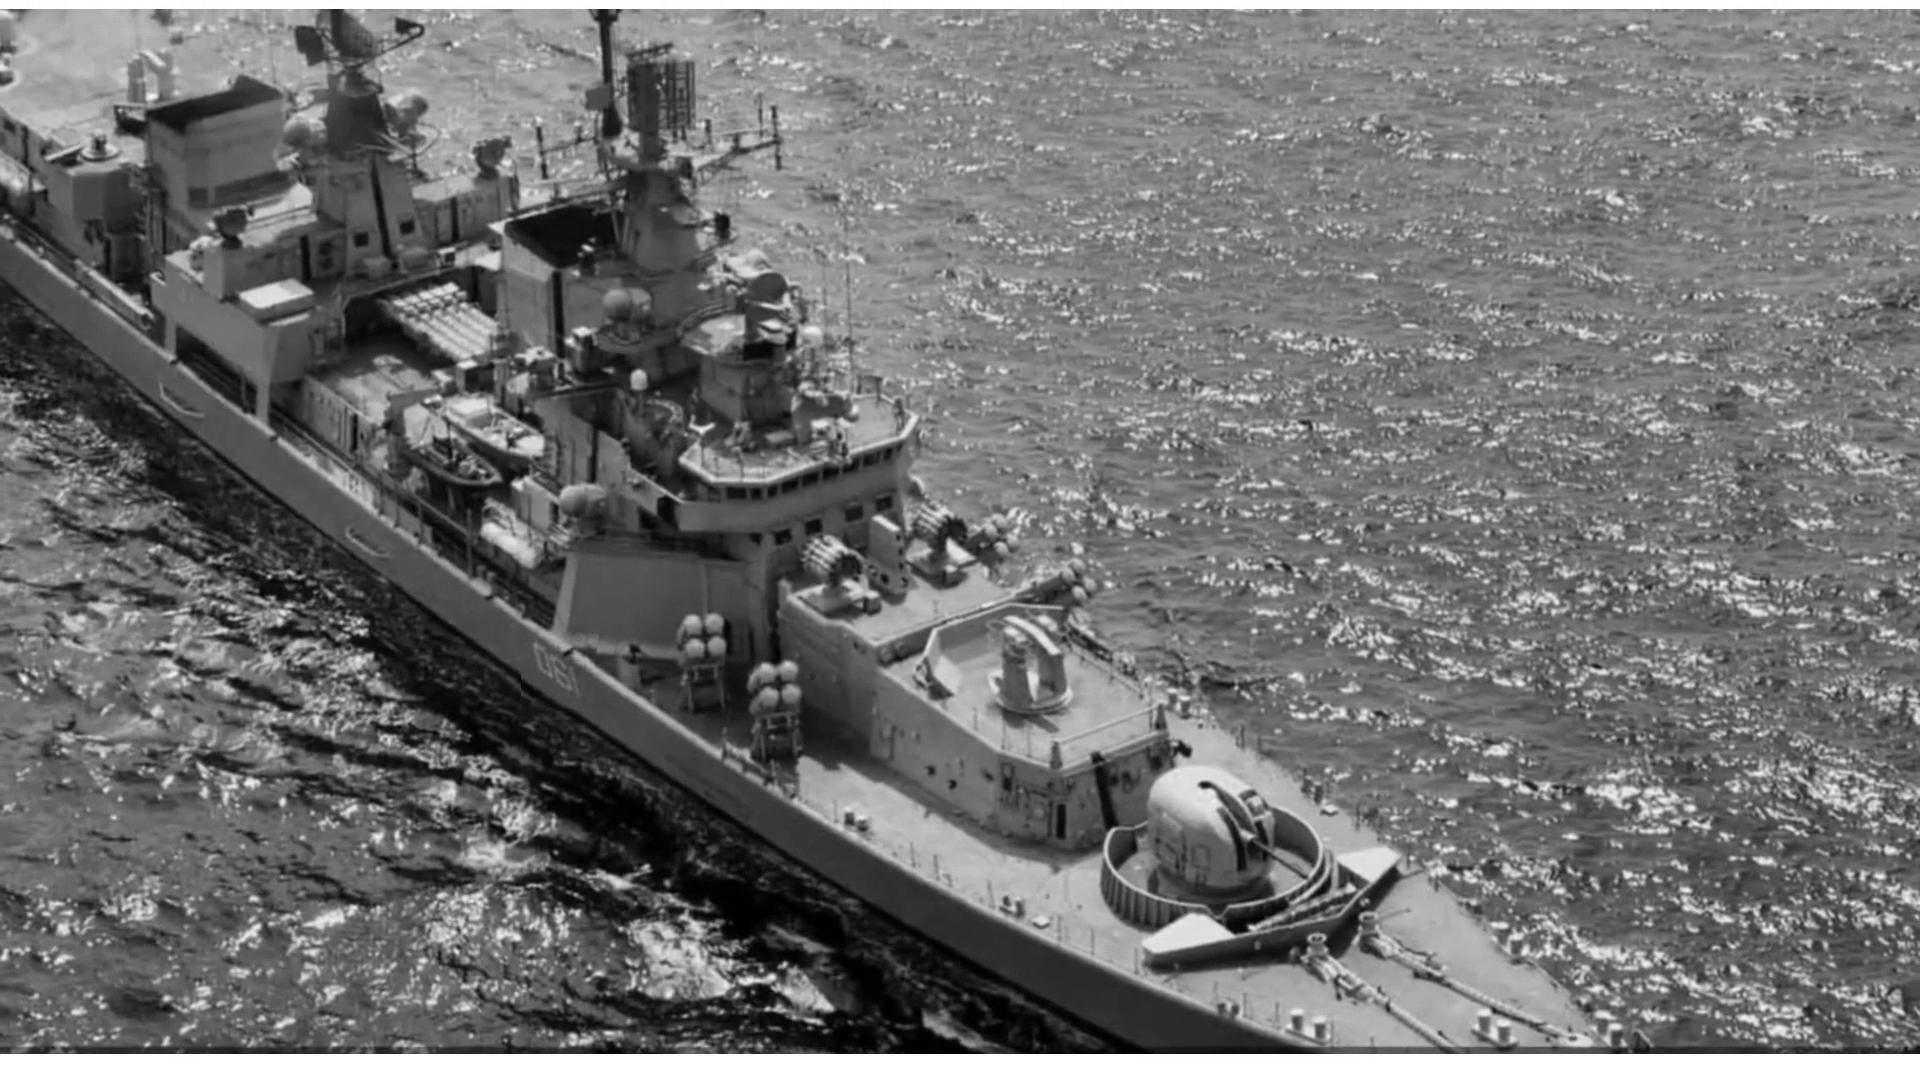OCR: (521, 632, 600, 713)
